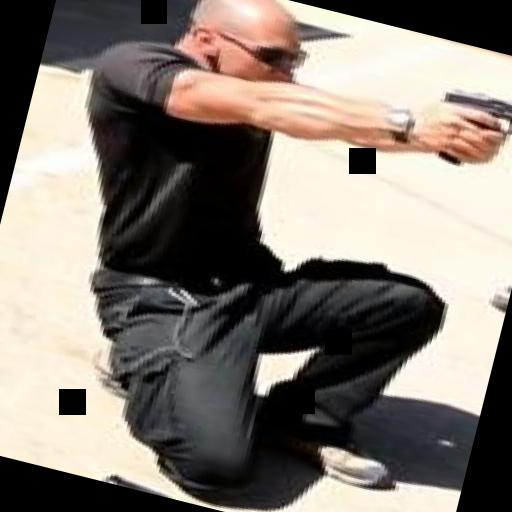Handgun: (422, 78, 512, 185)
